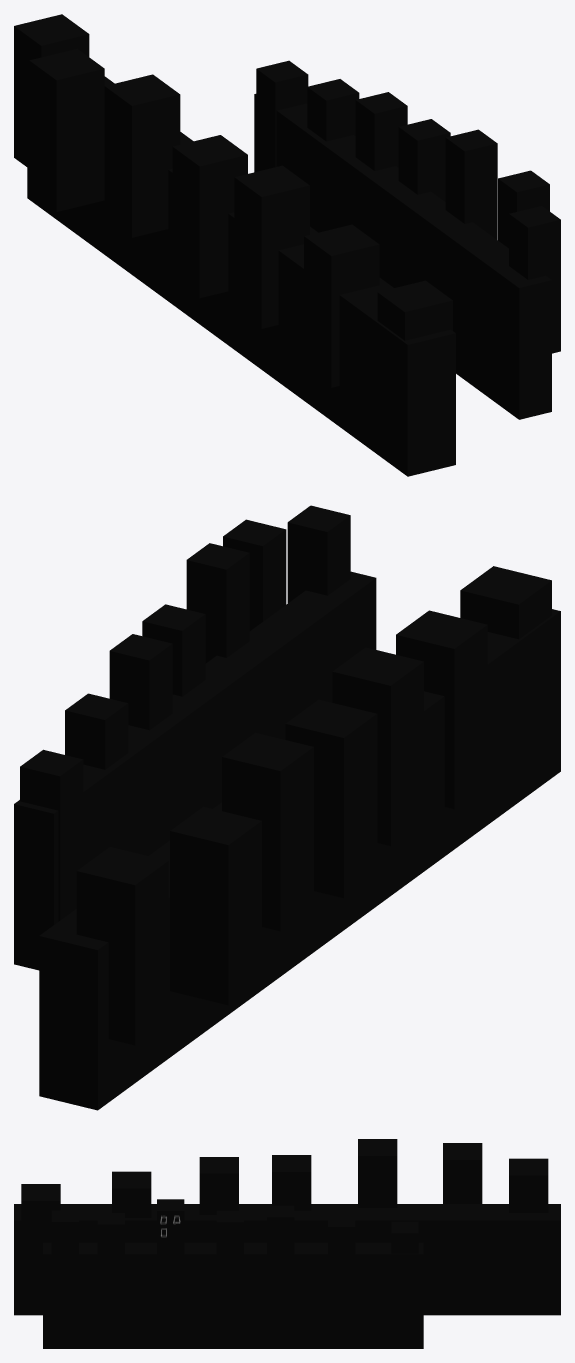
The model's file is cityscape.glb.
3 renders of one model, top to bottom at view 1: azimuth 30°, elevation 25°; view 2: azimuth 150°, elevation 25°; view 3: azimuth 270°, elevation 25°, orthographic. The views are drawn at different scales.
Visible parts, largest first — view 1: Cube.001; view 2: Cube.001; view 3: Cube.001.
Part boxes in pixels (x1,y1,x2,y2): Cube.001: [14, 14, 560, 476]; Cube.001: [14, 505, 560, 1110]; Cube.001: [14, 1139, 560, 1348].
Size of the model in its own units: 15.38 by 12.44 by 40.05.
1 material, 1 textured.
